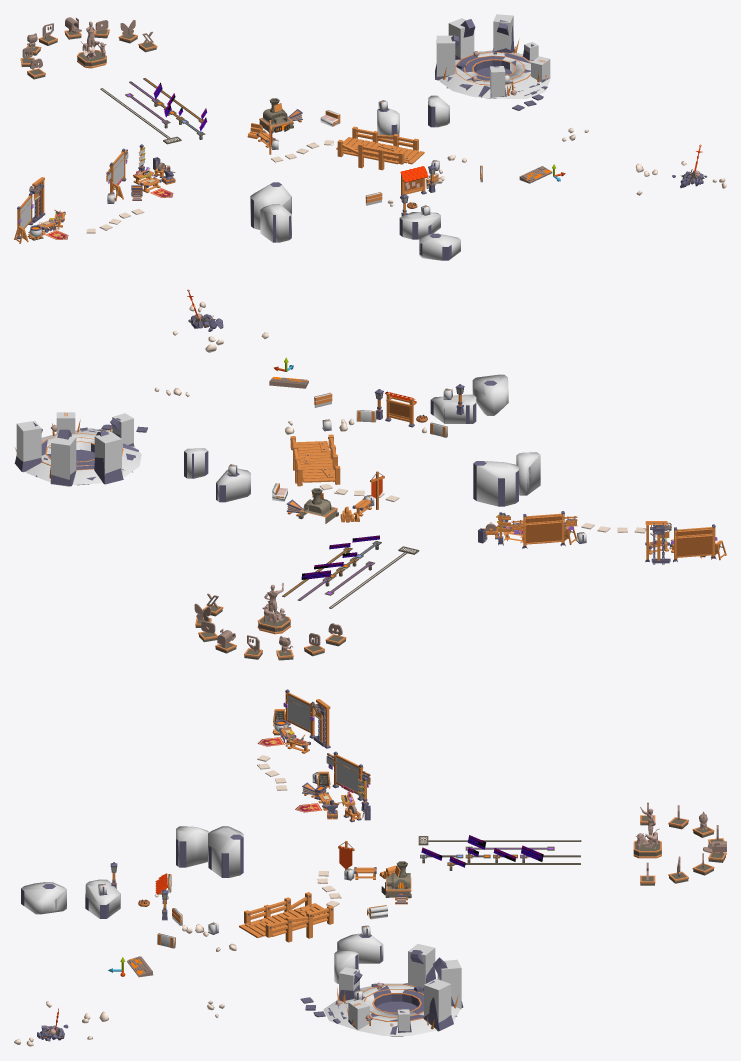
Rendered from scenery.glb.
3 renders of one model, top to bottom at view 1: azimuth 30°, elevation 25°; view 2: azimuth 150°, elevation 25°; view 3: azimuth 270°, elevation 25°, orthographic. The views are drawn at different scales.
Parts seen in each view (by area): view 1: bridge.001, trimesh.001, Cube.159, Cylinder.021, hull.016, hull.015, hull.011, hull.012, Cube.165, Cube.172, Cube.164, Cube.146 (+6 smaller); view 2: bridge.001, trimesh.001, hull.015, Cube.159, Cube.172, hull.011, Cube.164, Cube.146, hull.012, hull.016, Cube.165, hull.014 (+2 smaller); view 3: bridge.001, trimesh.001, hull.015, Cube.159, Cube.172, hull.011, Cylinder.021, hull.016, hull.014, Cube.146, hull.012, Cube.165 (+2 smaller).
Boxes of the visible parts, bbox=[...] form: bridge.001: bbox=[336, 126, 424, 170]; trimesh.001: bbox=[439, 50, 550, 98]; Cube.159: bbox=[20, 29, 157, 79]; Cylinder.021: bbox=[456, 53, 547, 95]; hull.016: bbox=[260, 204, 291, 242]; hull.015: bbox=[250, 183, 291, 229]; hull.011: bbox=[419, 234, 460, 260]; hull.012: bbox=[400, 212, 440, 239]; Cube.165: bbox=[436, 35, 455, 80]; Cube.172: bbox=[435, 19, 533, 97]; Cube.164: bbox=[448, 18, 474, 58]; Cube.146: bbox=[493, 14, 513, 51]; bridge.001: bbox=[290, 434, 340, 486]; trimesh.001: bbox=[26, 428, 141, 485]; hull.015: bbox=[476, 461, 518, 506]; Cube.159: bbox=[195, 604, 346, 660]; Cube.172: bbox=[14, 418, 134, 486]; hull.011: bbox=[472, 374, 508, 415]; Cube.164: bbox=[51, 435, 76, 486]; Cube.146: bbox=[16, 421, 41, 472]; hull.012: bbox=[431, 394, 476, 423]; hull.016: bbox=[516, 452, 540, 495]; Cube.165: bbox=[94, 432, 121, 484]; hull.014: bbox=[216, 468, 250, 501]; bridge.001: bbox=[239, 892, 333, 942]; trimesh.001: bbox=[323, 983, 460, 1036]; hull.015: bbox=[208, 826, 243, 877]; Cube.159: bbox=[640, 815, 726, 885]; Cube.172: bbox=[339, 950, 463, 1032]; hull.011: bbox=[21, 882, 66, 914]; Cylinder.021: bbox=[328, 985, 423, 1023]; hull.016: bbox=[176, 826, 209, 867]; hull.014: bbox=[337, 933, 383, 963]; Cube.146: bbox=[424, 978, 451, 1031]; hull.012: bbox=[85, 879, 120, 918]; Cube.165: bbox=[408, 944, 435, 987].
Size of the model in its own units: 83.84 by 8.2 by 78.34.
Materials: 36 (10 with a texture image).
